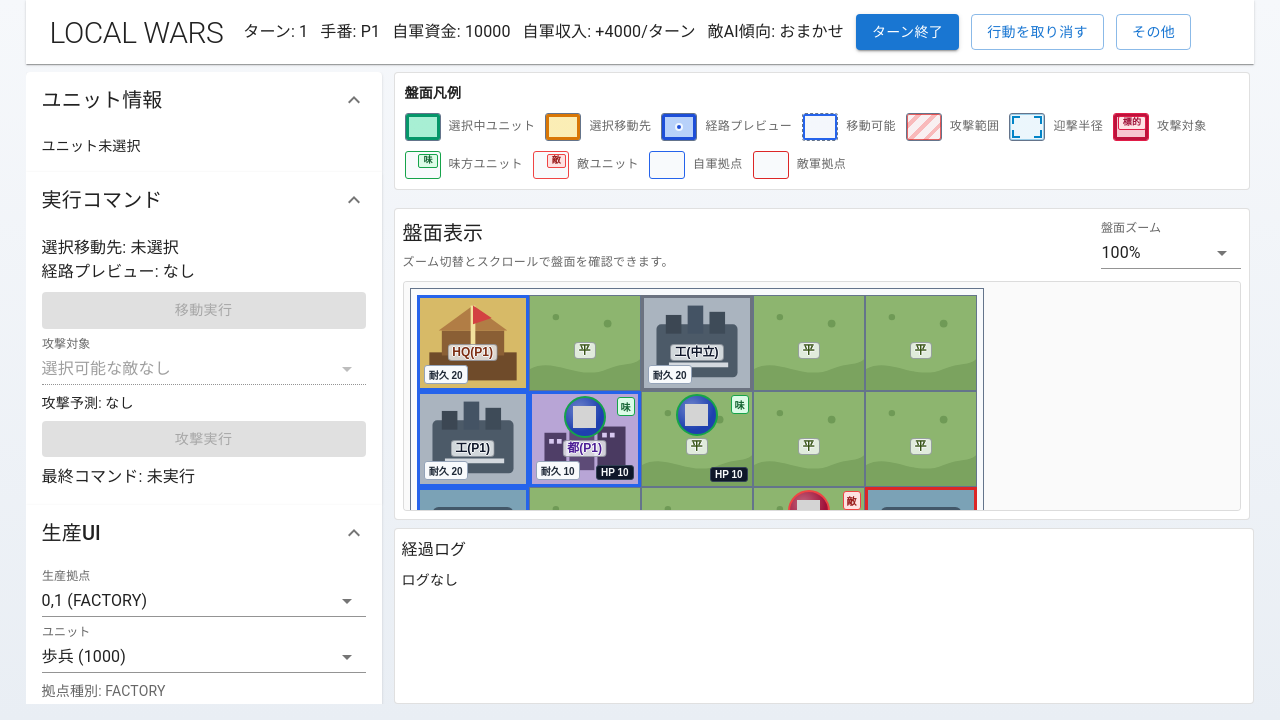
Test: BattleScreen UIテスト: コマンド操作(輸送フロー) › 輸送ユニットの搭載後も最終コマンド表示が更新される
The image size is (1280, 720).
Click the button with aria-label "タイル 2,1" at [697, 439], box [641,391,753,487]
(page scrolled)
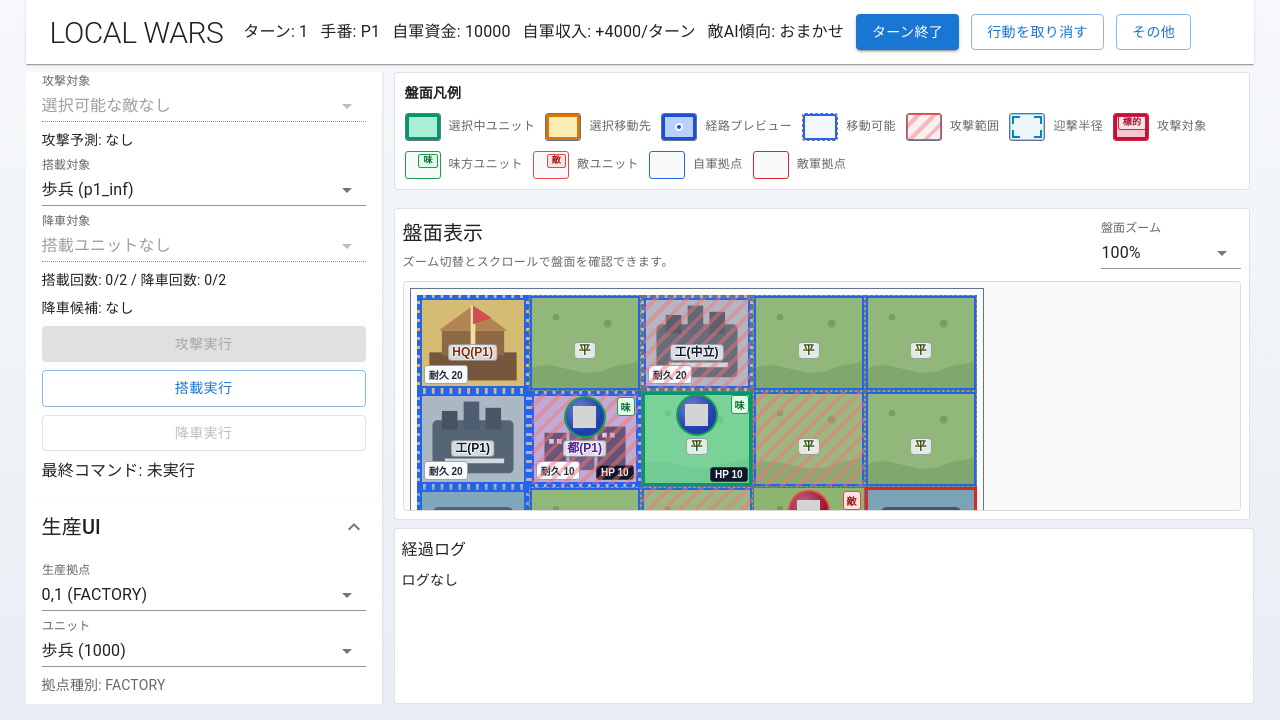
Click the button "搭載実行" at [204, 388], box [42,370,366,406]
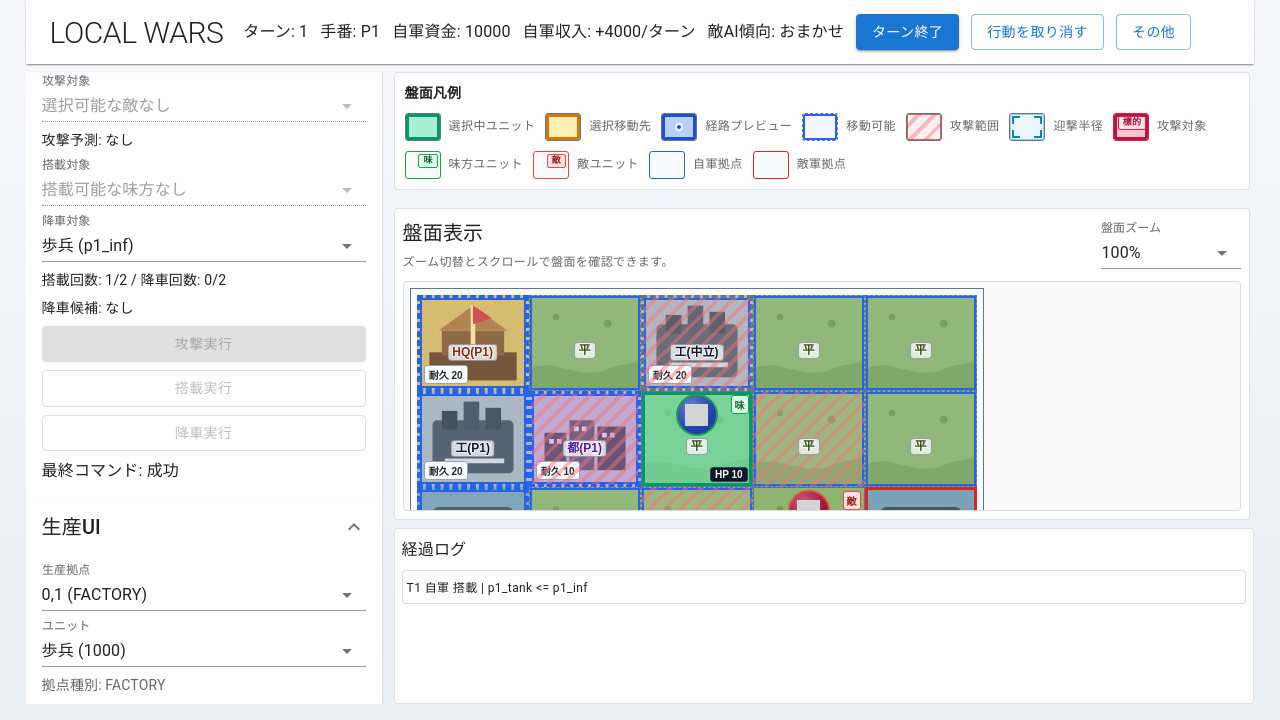
Result: the text "最終コマンド: 成功" is shown at [42,461,179,480]
